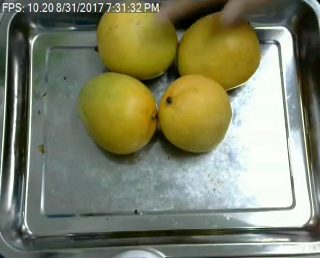Mango: (77, 72, 157, 154), (177, 12, 260, 90), (97, 1, 175, 79), (159, 75, 231, 152)
